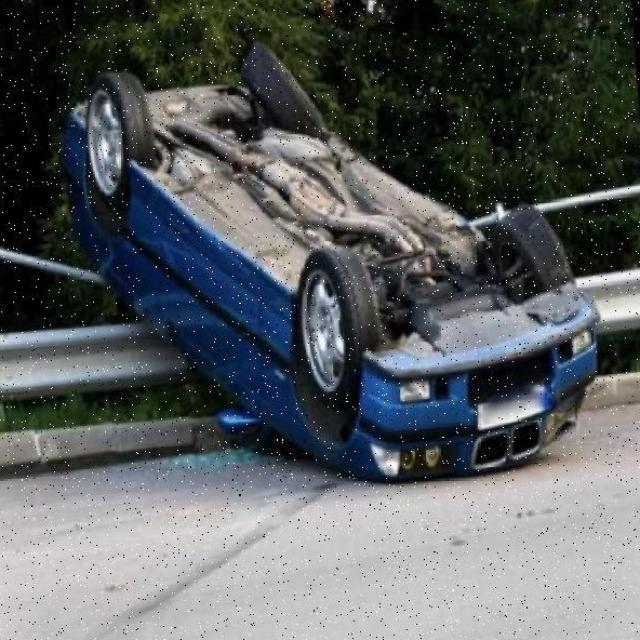accident: (57, 43, 611, 503)
